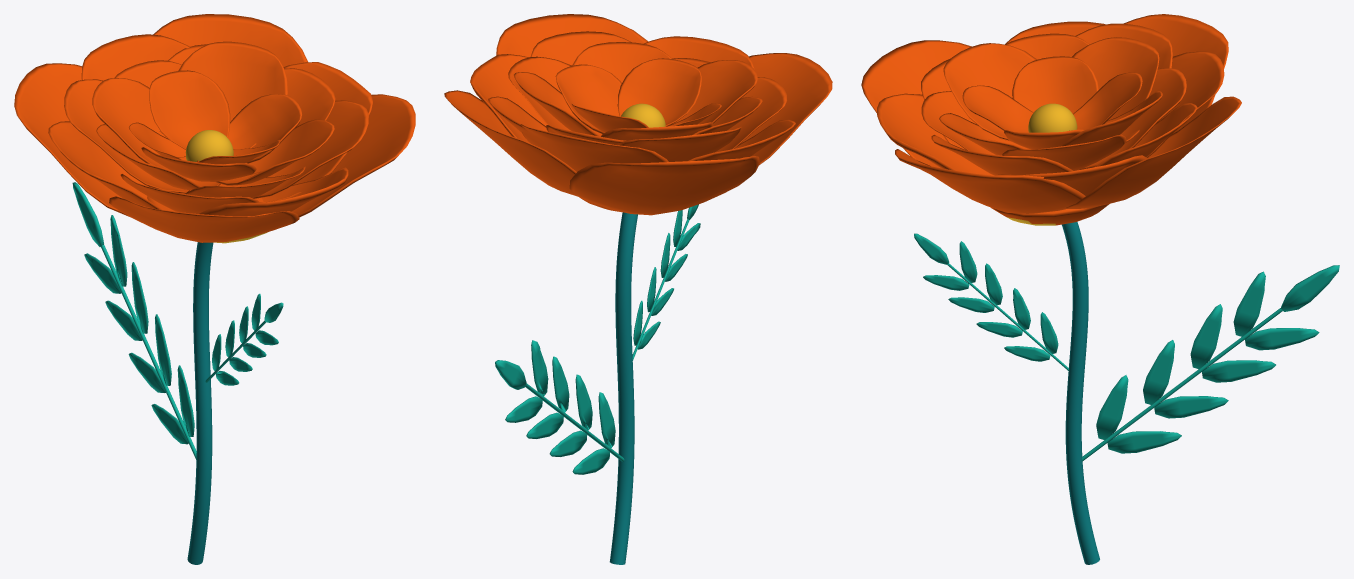
File: Marigold.fbx
3 renders of one model, left to right at view 1: azimuth 30°, elevation 25°; view 2: azimuth 150°, elevation 25°; view 3: azimuth 270°, elevation 25°, orthographic. The views are drawn at different scales.
Visible parts, largest first — view 1: Merigold_United; view 2: Merigold_United; view 3: Merigold_United.
Boxes of the visible parts, left/top/right/bottom form: Merigold_United: left=14, top=14, right=415, bottom=564; Merigold_United: left=444, top=14, right=832, bottom=564; Merigold_United: left=861, top=14, right=1339, bottom=564.
Bounding box in the file's own units: 34.23 × 50.49 × 44.41.
